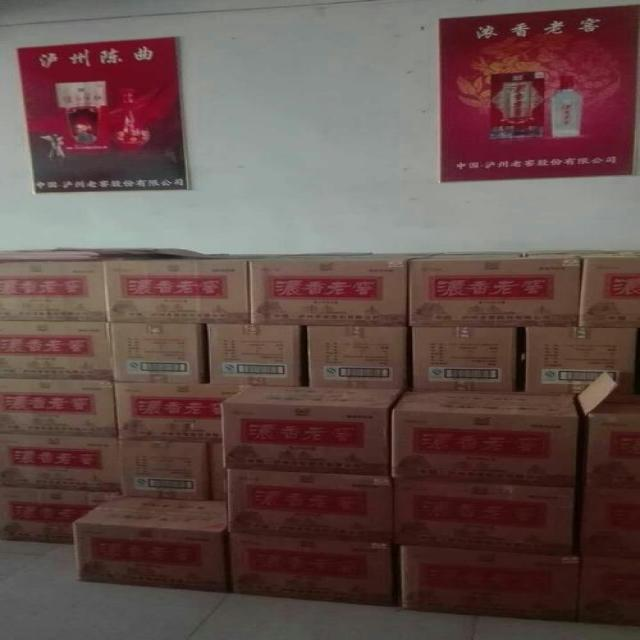box: (392, 389, 583, 486), (222, 386, 406, 476), (406, 251, 612, 327), (71, 495, 228, 593), (395, 476, 577, 556), (400, 544, 581, 622), (251, 253, 439, 327), (229, 532, 394, 608), (228, 469, 392, 542), (107, 260, 251, 324), (112, 383, 246, 443), (522, 329, 639, 396), (0, 434, 122, 493), (411, 327, 519, 393), (0, 378, 118, 438), (0, 260, 108, 321), (0, 321, 113, 379), (107, 322, 208, 385), (306, 327, 408, 389), (572, 394, 639, 487), (204, 324, 303, 386), (118, 440, 209, 500), (580, 483, 639, 561), (581, 250, 639, 328), (579, 557, 639, 626)
